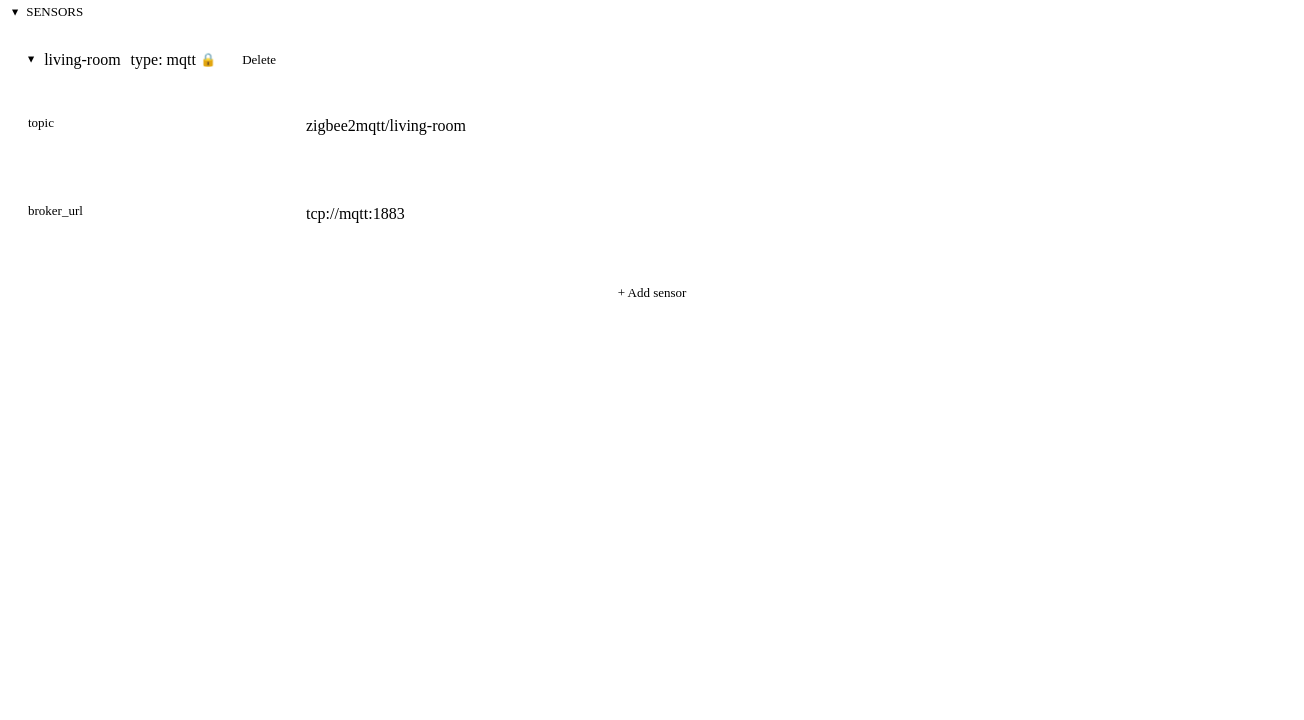
SensorsSection — CRUD affordances › rejects a reserved id in the create form before submit
The width and height of the screenshot is (1304, 720).
Click the button "+ Add sensor" at (652, 292), box [12,277,1292,308]
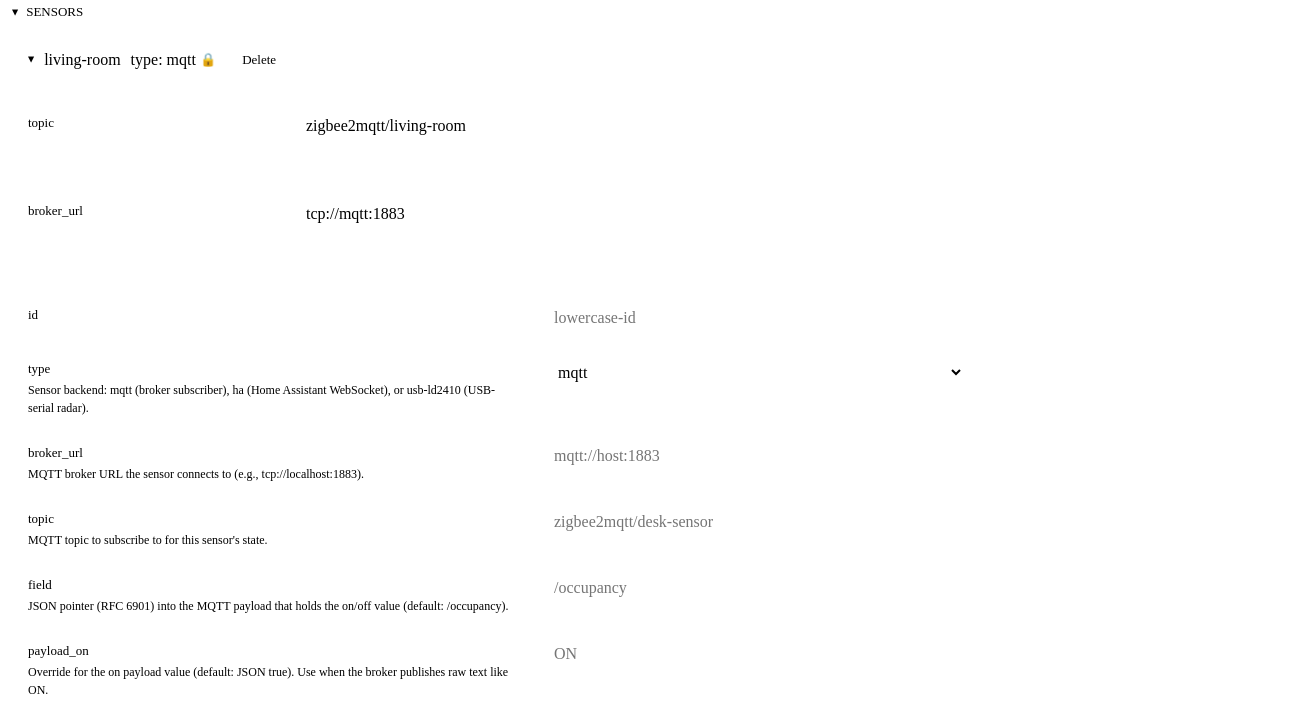
Type "type" into the field labelled "id" at (754, 318), box [544,303,964,333]
(page scrolled)
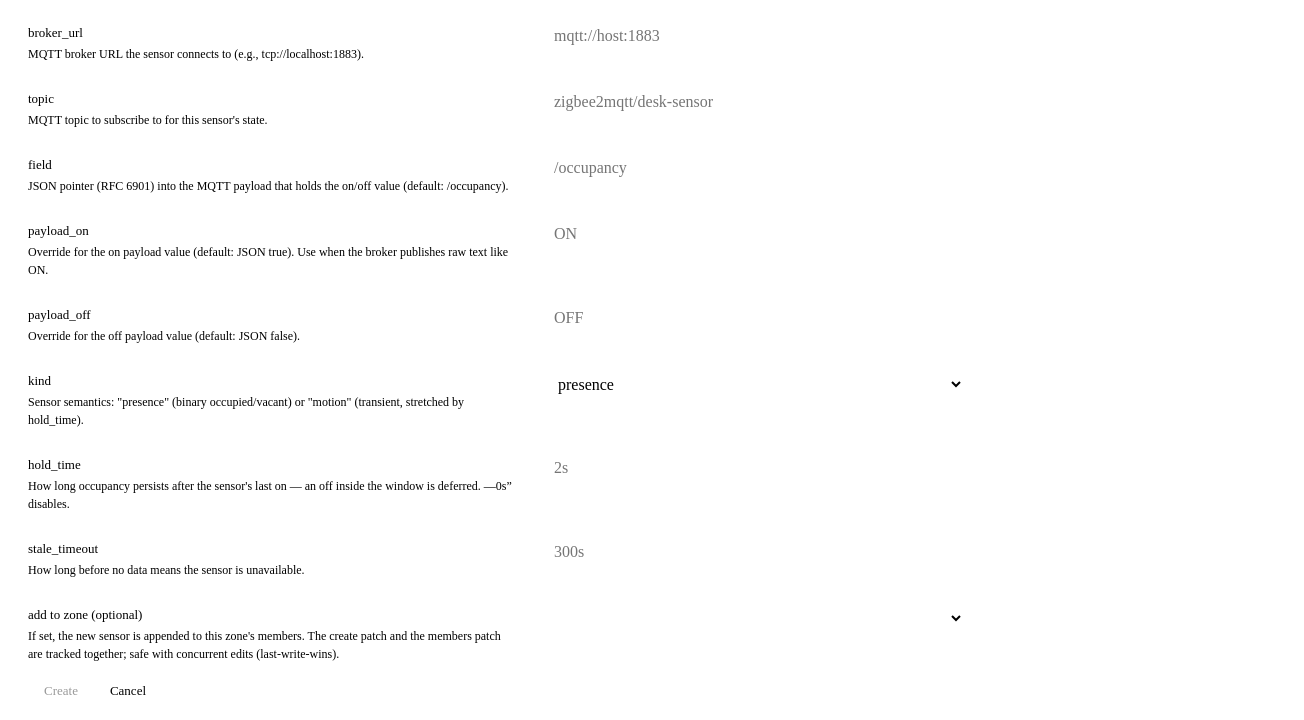
expect the button "Create" is disabled: met, box [28,675,94,706]
